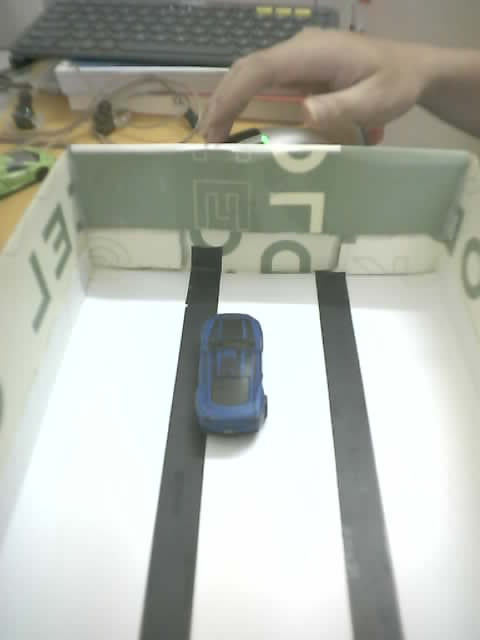vehicle: (205, 313, 268, 457)
